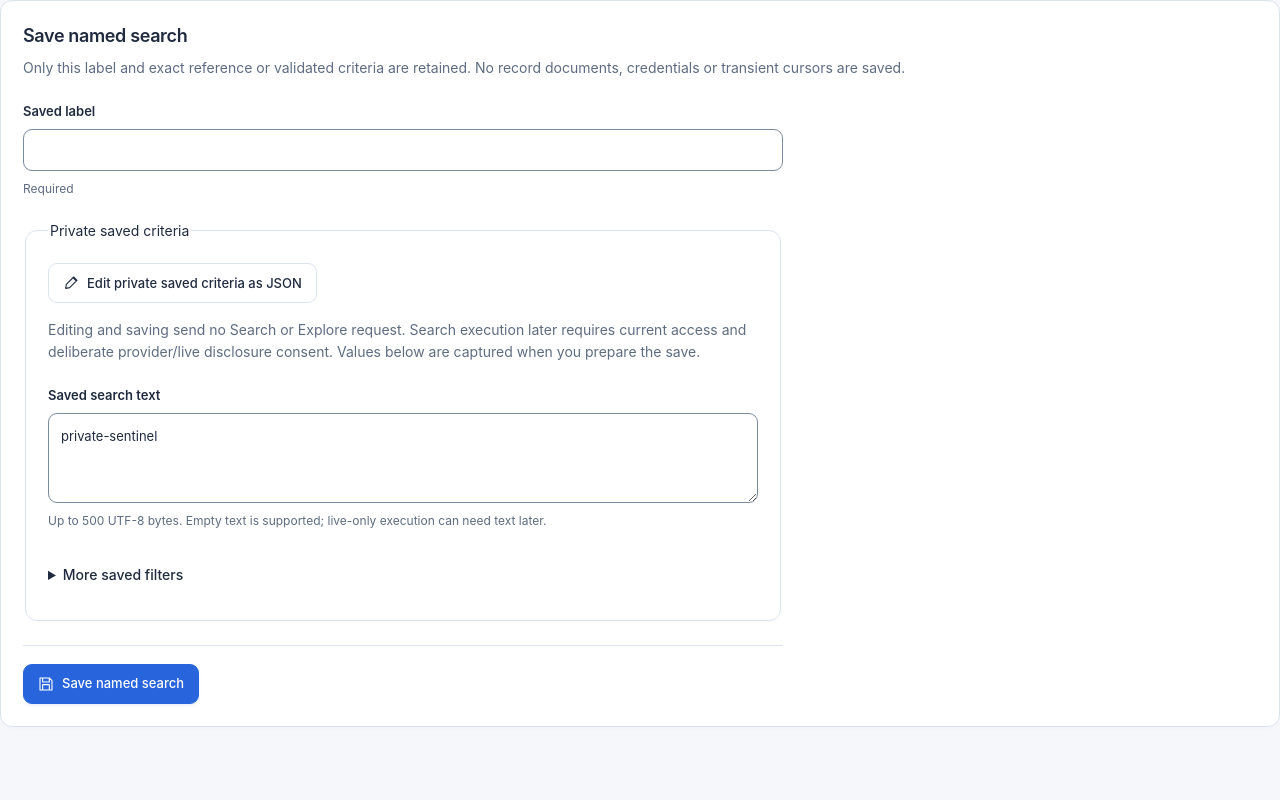
Test: saves a private query only after confirmation and accepts a receipt without echoing text
Type "Research" into the field labelled "Saved label".
click(403, 150); type("Research")  # box [23,129,783,171]
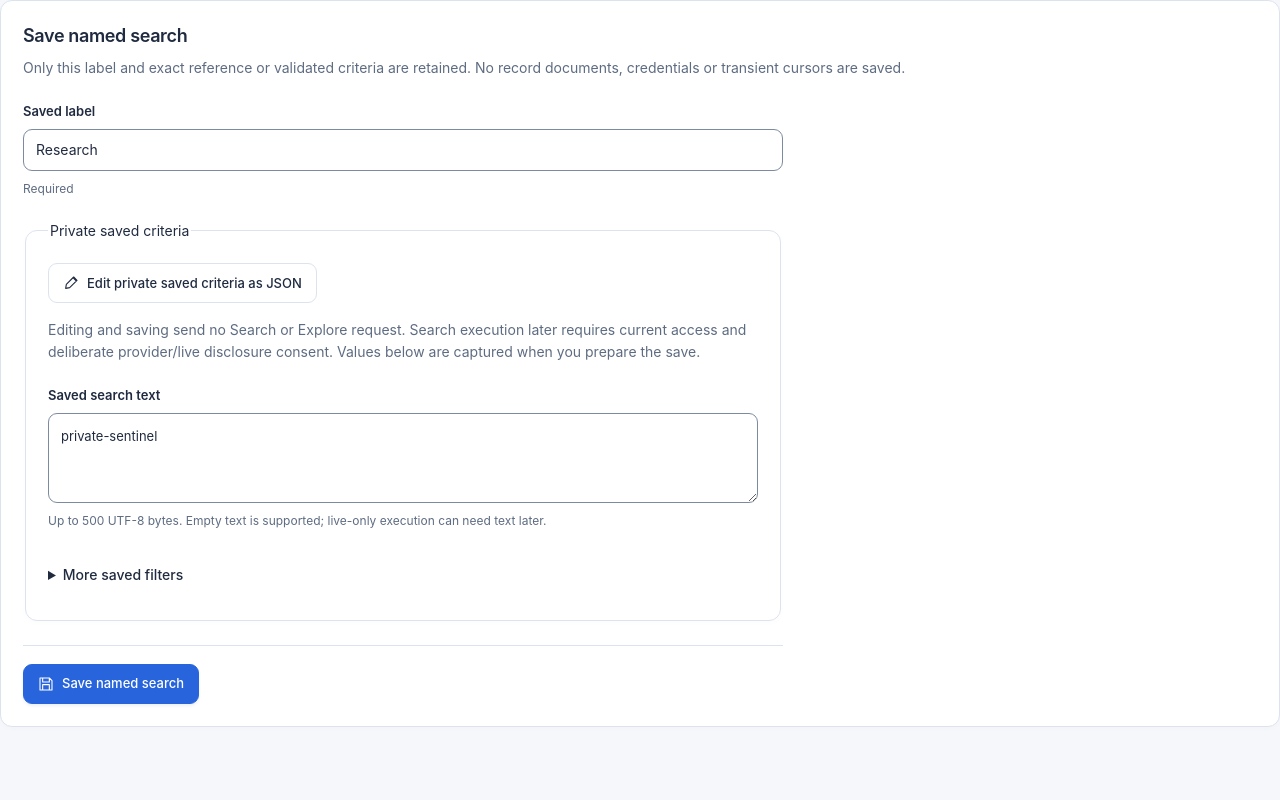
Click the button "Save named search".
click(111, 684)  # box [23,664,199,704]
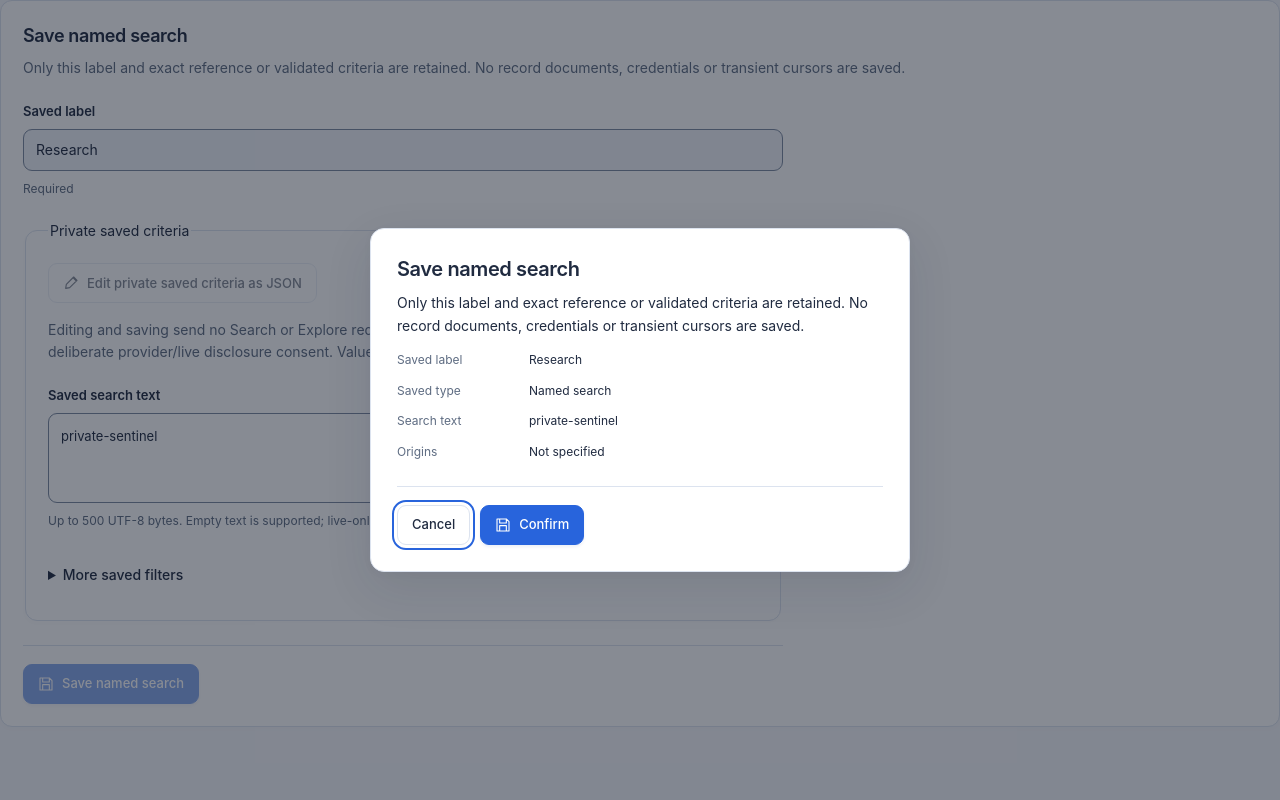
Click the button "Confirm".
click(532, 525)  # box [480,505,584,545]
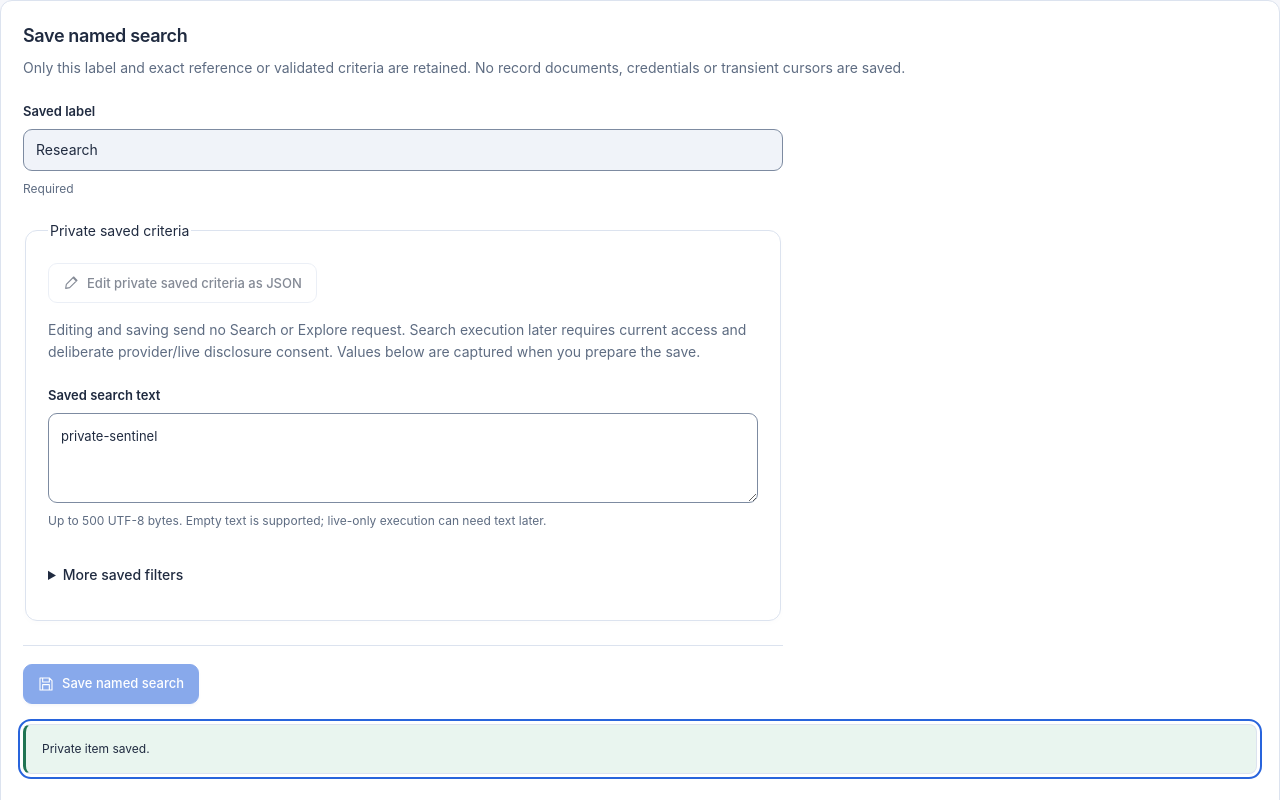
Now the text "Private item saved." is shown, box [23,724,1257,774]
